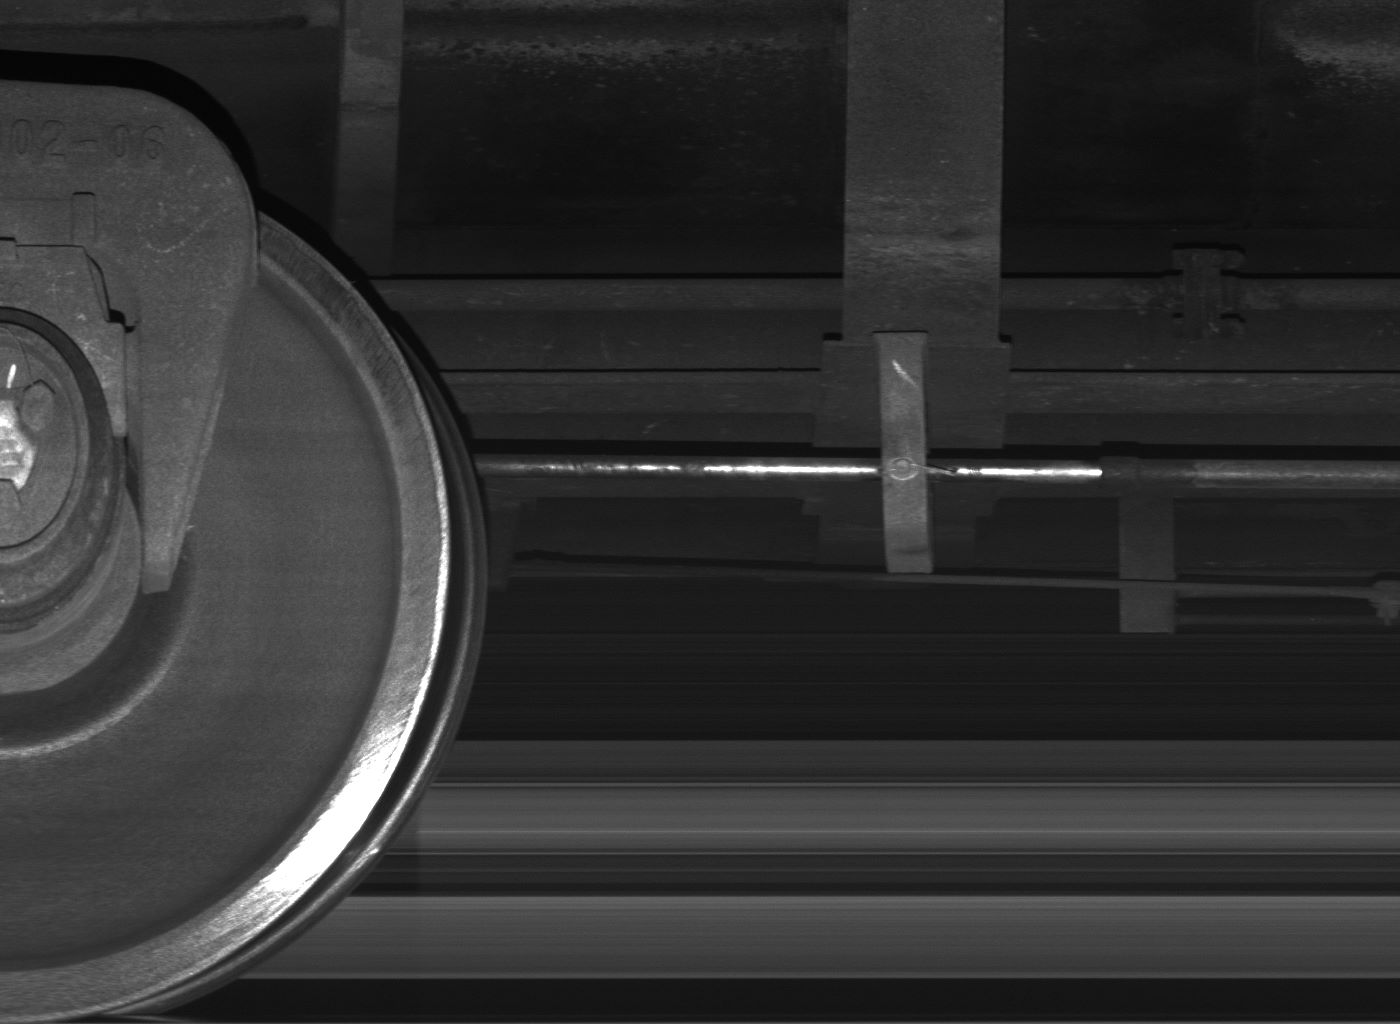Upper lever: (1118, 494, 1175, 633)
normal: (877, 333, 935, 572)
